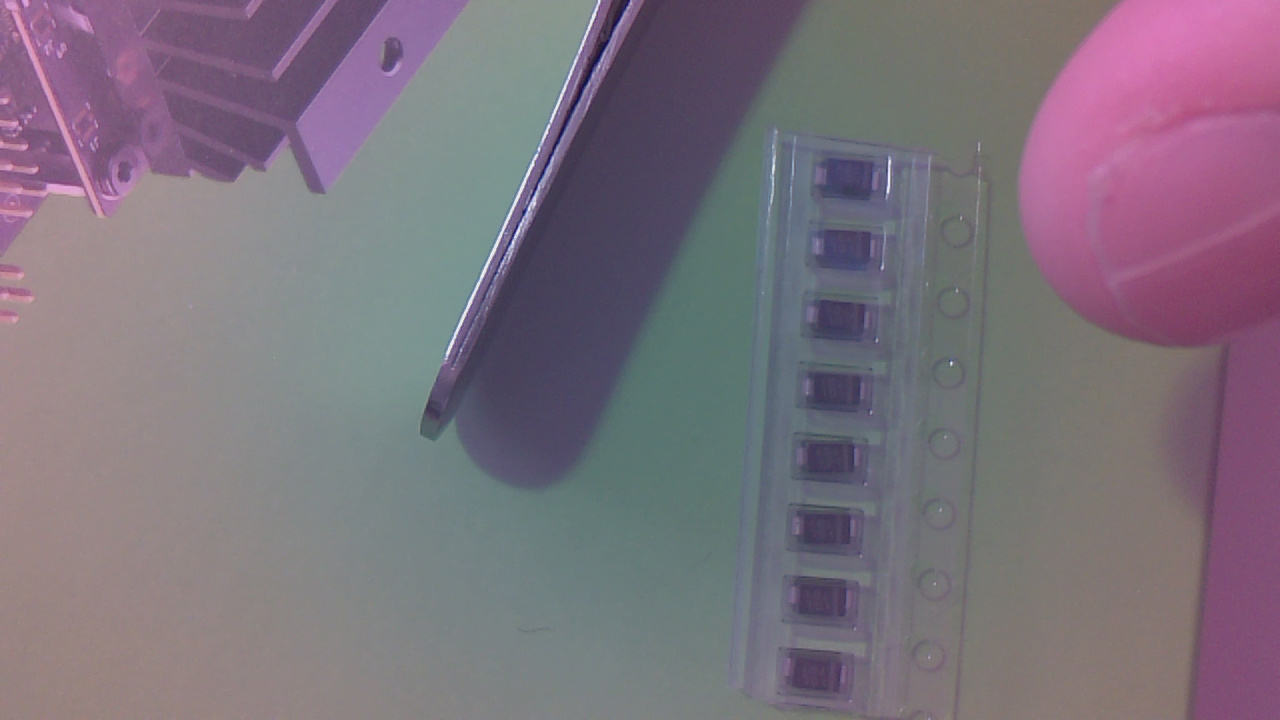Diode: (819, 232, 888, 274), (820, 162, 889, 203), (787, 654, 854, 696), (792, 582, 861, 622), (807, 303, 878, 341), (799, 442, 868, 481), (805, 374, 876, 410), (796, 513, 865, 550)
